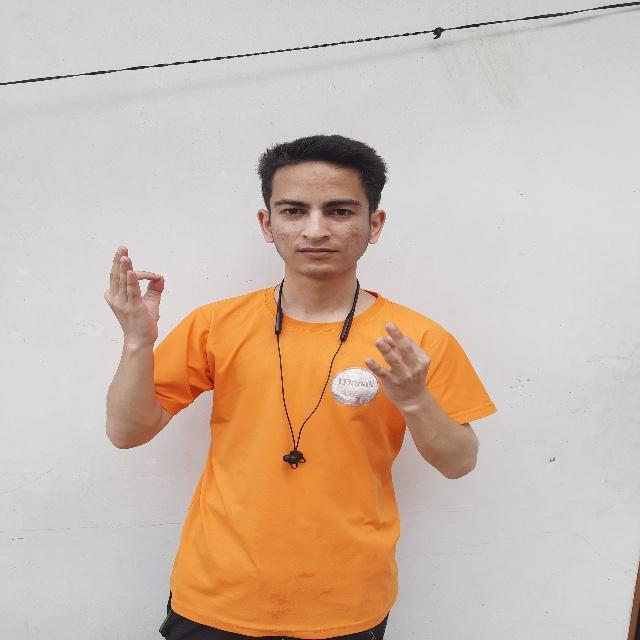Okay: (100, 240, 171, 350)
